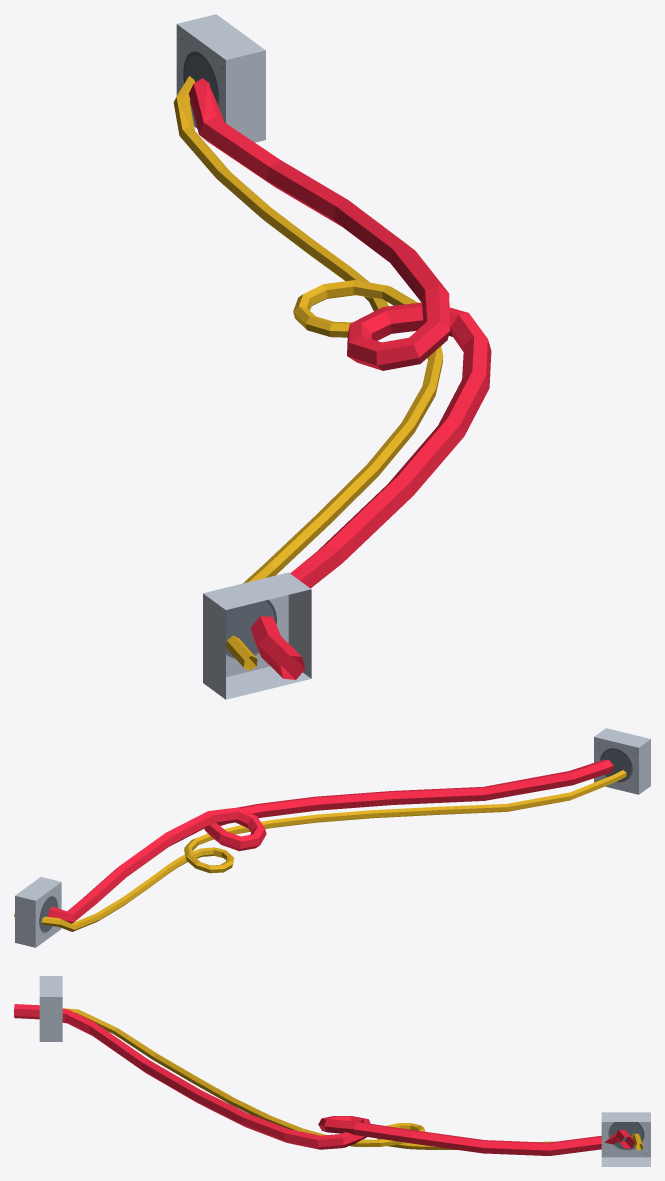
The model's file is kabel4.dae.
3 renders of one model, top to bottom at view 1: azimuth 30°, elevation 25°; view 2: azimuth 150°, elevation 25°; view 3: azimuth 270°, elevation 25°, orthographic. The views are drawn at different scales.
Parts seen in each view (by area): view 1: NurbsPath.019, NurbsPath.020, Cube.077, Cube.076; view 2: NurbsPath.019, NurbsPath.020, Cube.077, Cube.076; view 3: NurbsPath.019, NurbsPath.020, Cube.076, Cube.077.
Part boxes in pixels (x1,y1,x2,y2): NurbsPath.019: (188, 78, 491, 679); NurbsPath.020: (173, 76, 443, 670); Cube.077: (203, 572, 311, 699); Cube.076: (176, 14, 265, 142); NurbsPath.019: (47, 760, 613, 923); NurbsPath.020: (14, 770, 626, 931); Cube.077: (594, 728, 650, 794); Cube.076: (15, 877, 61, 947); NurbsPath.019: (14, 1004, 634, 1155); NurbsPath.020: (63, 1008, 643, 1150); Cube.076: (601, 1112, 650, 1166); Cube.077: (39, 976, 62, 1041).
Bounding box in the file's own units: 3.42 × 6.18 × 0.5036.
